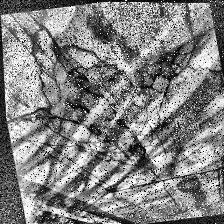pothole: (125, 40, 198, 104), (44, 60, 105, 118)
